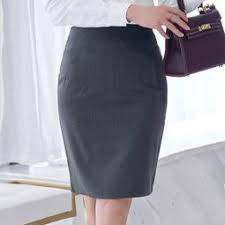S_skirt: (49, 20, 174, 206)
